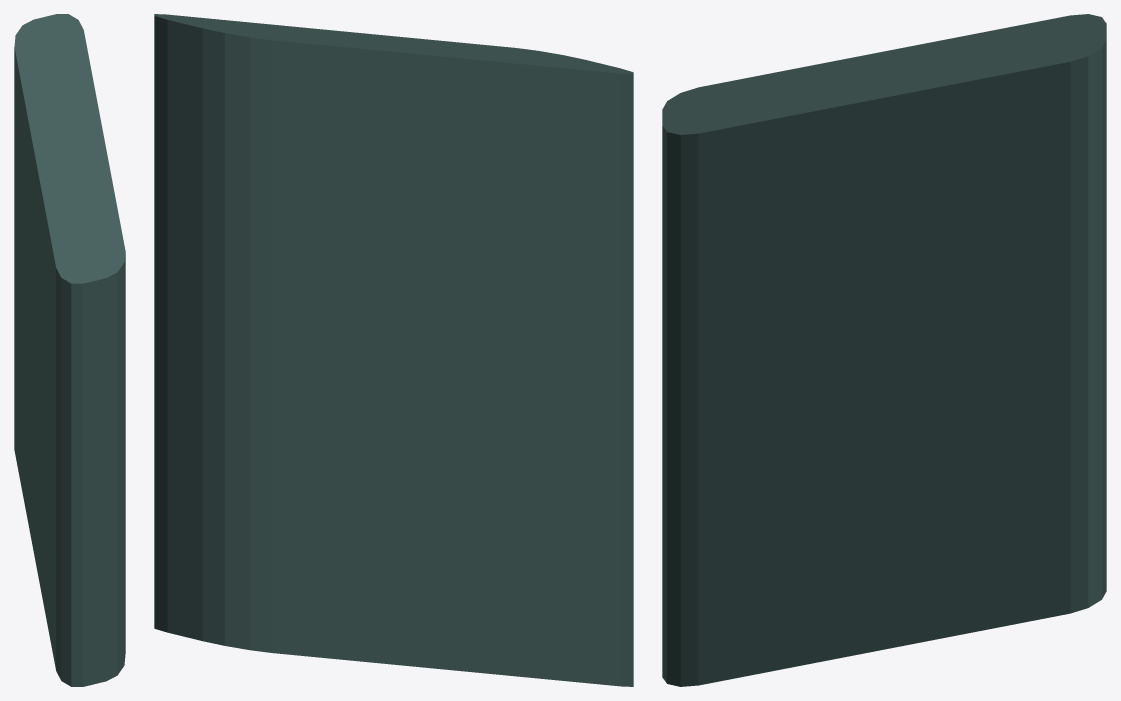
Rendered from Bridge_Anchor.gltf.
The picture shows the model from 3 angles, left to right: view 1: azimuth 30°, elevation 25°; view 2: azimuth 150°, elevation 25°; view 3: azimuth 270°, elevation 25°; orthographic projection. The views are drawn at different scales.
Visible parts, largest first — view 1: Bridge_Anchor_baked; view 2: Bridge_Anchor_baked; view 3: Bridge_Anchor_baked.
Boxes of the visible parts, left/top/right/bottom form: Bridge_Anchor_baked: left=14, top=14, right=125, bottom=686; Bridge_Anchor_baked: left=154, top=14, right=633, bottom=686; Bridge_Anchor_baked: left=662, top=14, right=1106, bottom=686.
Size of the model in its own units: 0.4319 by 1.29 by 0.73.
